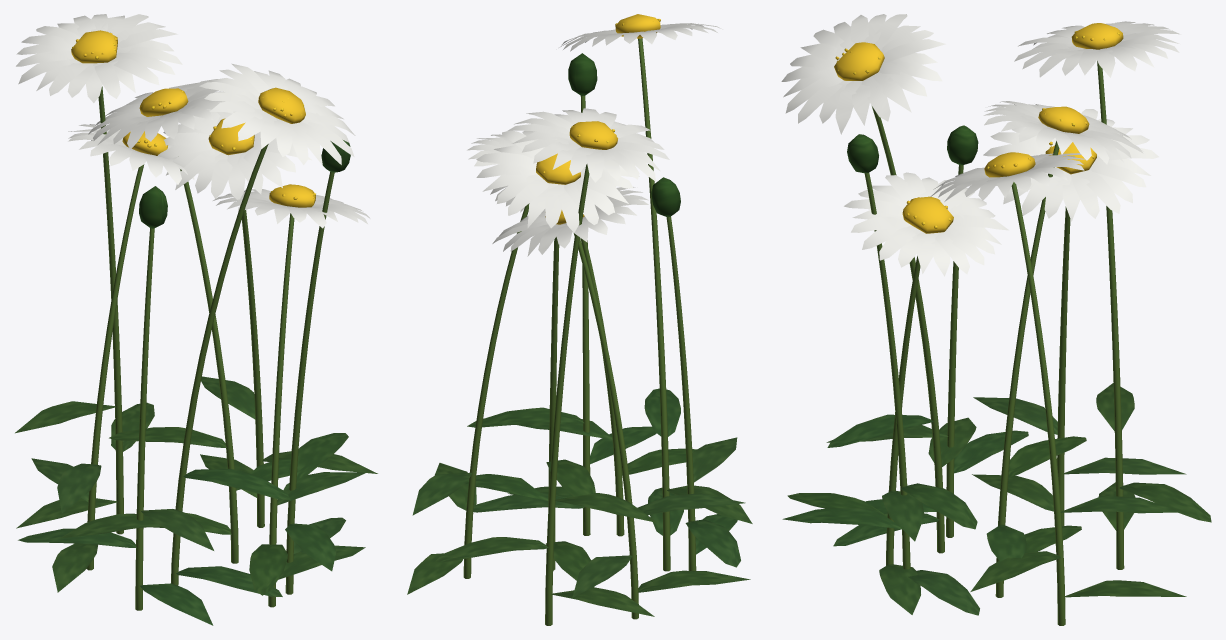
Rendered from b-daisy.glb.
The picture shows the model from 3 angles, left to right: view 1: azimuth 30°, elevation 25°; view 2: azimuth 150°, elevation 25°; view 3: azimuth 270°, elevation 25°; orthographic projection. The views are drawn at different scales.
Parts seen in each view (by area): view 1: Flowers, Foliage, Stems; view 2: Foliage, Flowers, Stems; view 3: Flowers, Foliage, Stems.
Part boxes in pixels (<box>): Flowers: <box>16,14,370,228</box>; Foliage: <box>15,140,377,625</box>; Stems: <box>86,86,334,610</box>; Foliage: <box>407,53,752,616</box>; Flowers: <box>467,14,722,256</box>; Stems: <box>463,38,696,625</box>; Flowers: <box>781,14,1180,276</box>; Foliage: <box>782,125,1211,615</box>; Stems: <box>864,61,1124,625</box>.
Bounding box in the file's own units: 0.2099 × 0.32 × 0.2296.
Materials: 3 (1 with a texture image).
